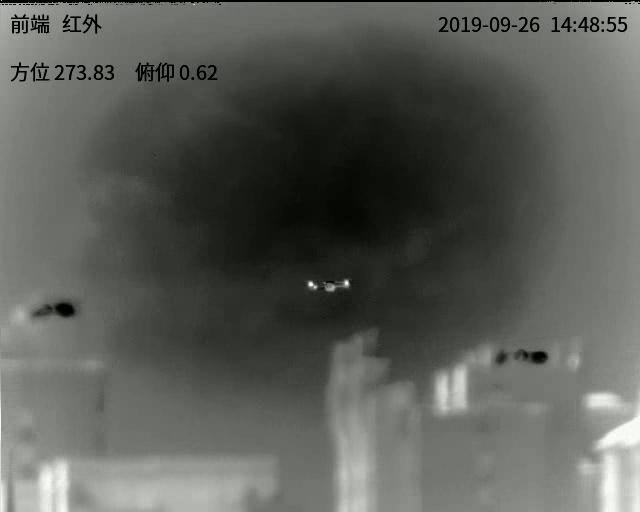DRONE: (306, 277, 352, 293)
